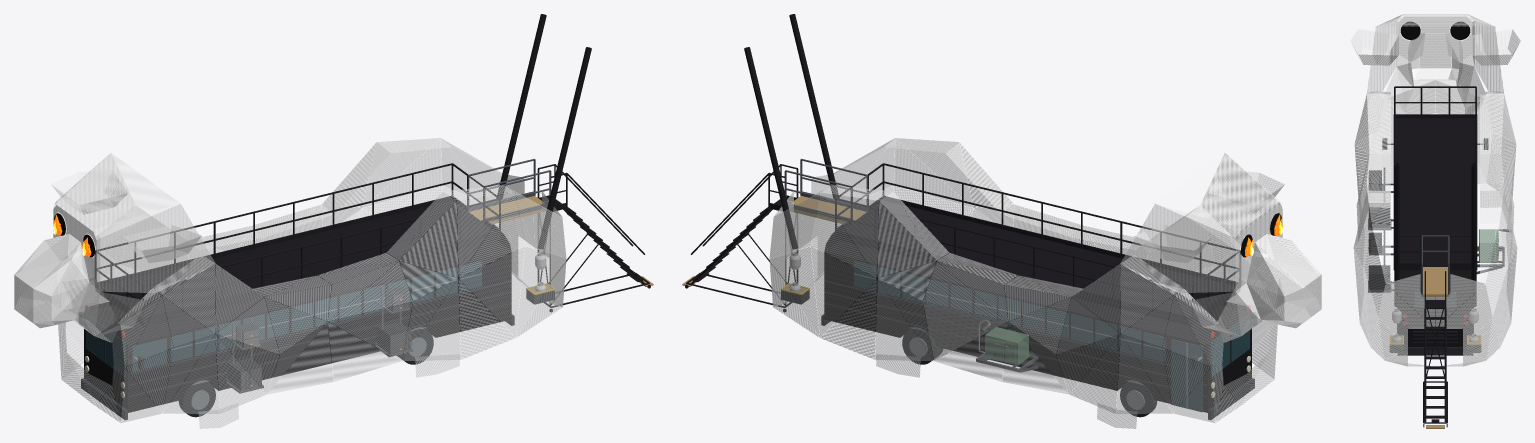
The model's file is baaabs-panelized-v17.glb.
3 renders of one model, left to right at view 1: azimuth 30°, elevation 25°; view 2: azimuth 150°, elevation 25°; view 3: azimuth 270°, elevation 25°, orthographic. The views are drawn at different scales.
Visible parts, largest first — view 1: Bus__Body_96in_wide, H-D-001 | Driver continuous side, H-C-002 | Center continuous rising crown, H-P-001 | Passenger continuous side, B-D-054 | Driver Skirt 07 b, B-D-050 | Driver Skirt 05 b, B-D-051 | Driver Skirt 06 a, B-D-043 | Driver Skirt 02 a, B-D-038 | Driver Flank 07 b, B-D-036 | Driver Flank 06 b, B-D-053 | Driver Skirt 07 a, B-D-049 | Driver Skirt 05 a (+73 smaller); view 2: Bus__Body_96in_wide, H-P-001 | Passenger continuous side, H-C-002 | Center continuous rising crown, H-D-001 | Driver continuous side, B-P-062 | Passenger Skirt 07 b, B-P-058 | Passenger Skirt 05 b, B-P-059 | Passenger Skirt 06 a, B-P-051 | Passenger Skirt 02 a, B-P-046 | Passenger Flank 07 b, B-P-044 | Passenger Flank 06 b, B-P-061 | Passenger Skirt 07 a, B-P-057 | Passenger Skirt 05 a (+75 smaller); view 3: Bus__Body_96in_wide, H-D-001 | Driver continuous side, H-P-001 | Passenger continuous side, H-C-002 | Center continuous rising crown, Bus__Rear_engine_hatch, Dancefloor_section_02, Dancefloor_section_01, Dancefloor_section_03, Dancefloor_section_04, B-D-059 | Driver Rear surround 06 a, B-P-015 | Passenger Rear surround 05 a, Dancefloor_section_07 (+113 smaller).
Part boxes in pixels (<box>): Bus__Body_96in_wide: <box>84,240,511,412</box>; H-D-001 | Driver continuous side: <box>100,204,215,293</box>; H-C-002 | Center continuous rising crown: <box>56,153,180,228</box>; H-P-001 | Passenger continuous side: <box>55,153,133,253</box>; B-D-054 | Driver Skirt 07 b: <box>459,246,524,336</box>; B-D-050 | Driver Skirt 05 b: <box>329,302,412,360</box>; B-D-051 | Driver Skirt 06 a: <box>403,280,460,360</box>; B-D-043 | Driver Skirt 02 a: <box>163,335,219,413</box>; B-D-038 | Driver Flank 07 b: <box>457,193,514,276</box>; B-D-036 | Driver Flank 06 b: <box>399,201,458,277</box>; B-D-053 | Driver Skirt 07 a: <box>458,279,515,359</box>; B-D-049 | Driver Skirt 05 a: <box>328,322,400,381</box>; Bus__Body_96in_wide: <box>824,240,1251,412</box>; H-P-001 | Passenger continuous side: <box>1120,204,1235,293</box>; H-C-002 | Center continuous rising crown: <box>1155,153,1279,228</box>; H-D-001 | Driver continuous side: <box>1202,153,1280,253</box>; B-P-062 | Passenger Skirt 07 b: <box>811,246,876,336</box>; B-P-058 | Passenger Skirt 05 b: <box>923,302,1007,360</box>; B-P-059 | Passenger Skirt 06 a: <box>875,280,932,360</box>; B-P-051 | Passenger Skirt 02 a: <box>1116,335,1172,413</box>; B-P-046 | Passenger Flank 07 b: <box>821,193,878,276</box>; B-P-044 | Passenger Flank 06 b: <box>877,201,936,277</box>; B-P-061 | Passenger Skirt 07 a: <box>820,279,877,359</box>; B-P-057 | Passenger Skirt 05 a: <box>935,322,1007,381</box>; Bus__Body_96in_wide: <box>1398,270,1472,346</box>; H-D-001 | Driver continuous side: <box>1367,21,1396,93</box>; H-P-001 | Passenger continuous side: <box>1474,21,1503,93</box>; H-C-002 | Center continuous rising crown: <box>1376,14,1494,26</box>; Bus__Rear_engine_hatch: <box>1408,321,1462,346</box>; Dancefloor_section_02: <box>1393,130,1477,142</box>; Dancefloor_section_01: <box>1393,118,1477,130</box>; Dancefloor_section_03: <box>1393,143,1477,155</box>; Dancefloor_section_04: <box>1393,155,1477,167</box>; B-D-059 | Driver Rear surround 06 a: <box>1386,274,1435,326</box>; B-P-015 | Passenger Rear surround 05 a: <box>1435,274,1484,326</box>; Dancefloor_section_07: <box>1393,192,1477,204</box>.
Size of the model in its own units: 19.95 by 8.42 by 5.52.
233 materials, 207 textured.
